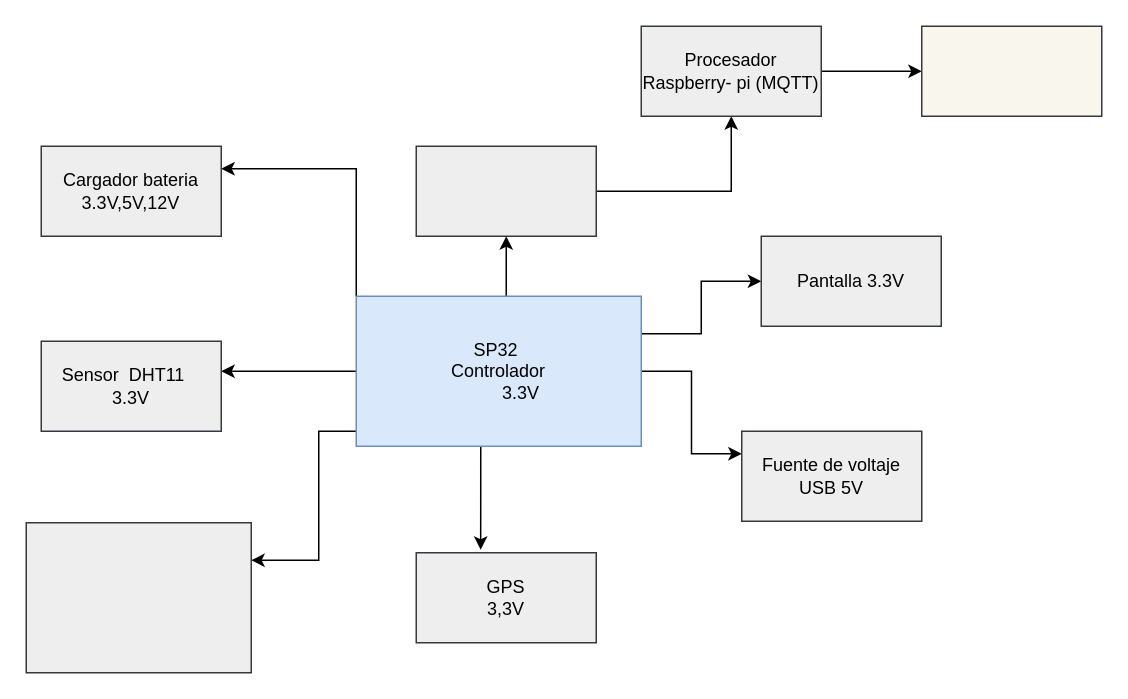
Some shapes in this 1128 by 699 pixel diagram are drawn without their labels. Here are the shapes that lost their labels. From the top down, the centre of each, then its label:
At [1011,70]: "Base de datos".
At [505,190]: "WIFI".
At [138,597]: "Actuadores:Ventilador, microbomba,relebombilla 5V".
